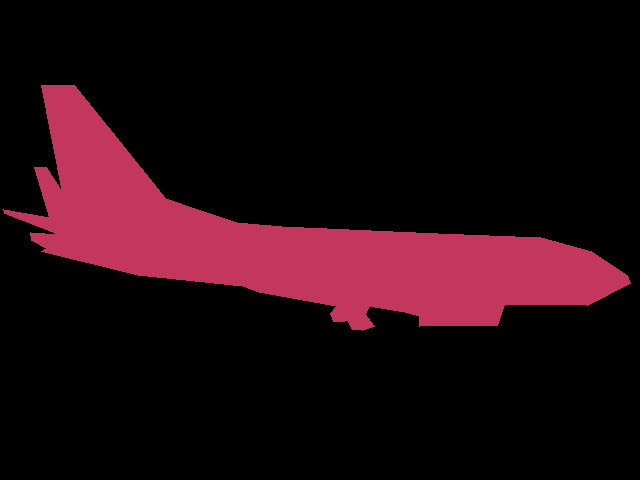Airplane: (3, 85, 631, 331)
